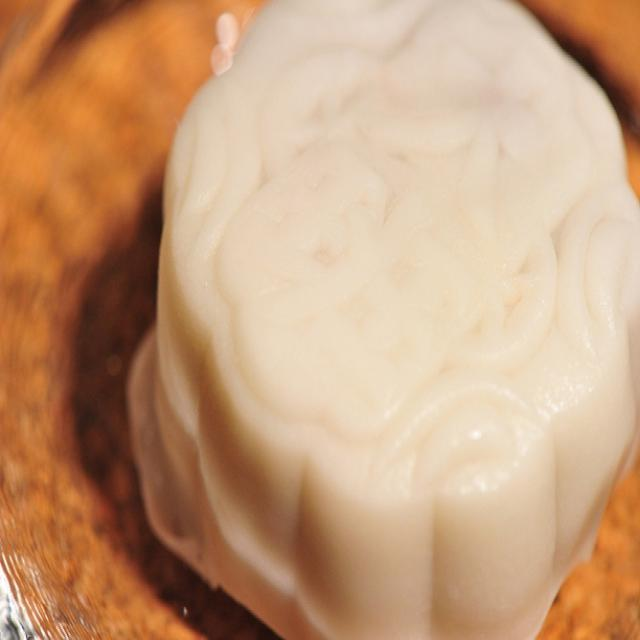蛋糕甜品: (121, 13, 630, 610)
